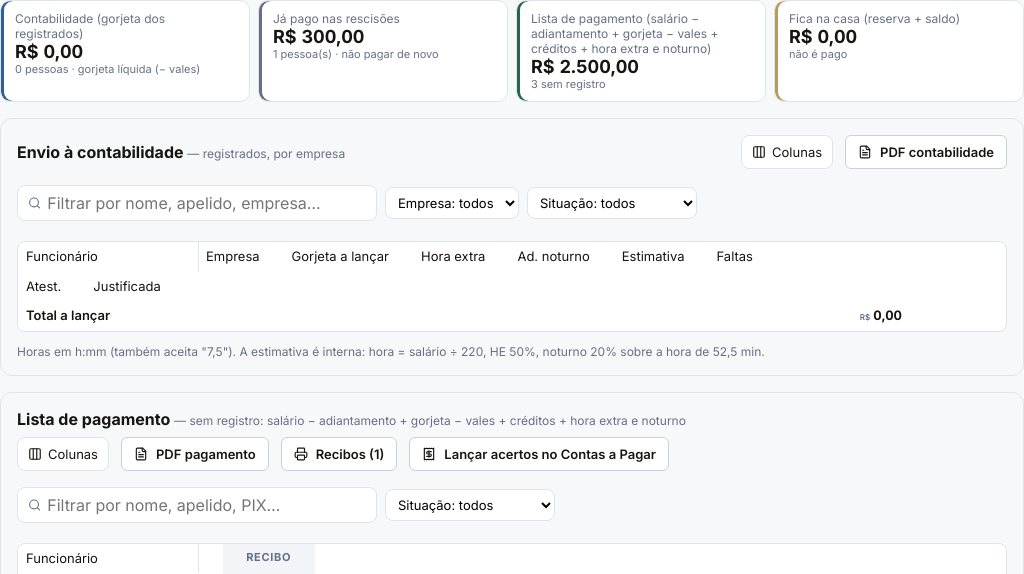
Test case: recibos na lista de pagamento › Recibos: conta só quem tem a receber e gera o PDF de todos
Click the button "Recibos (1)": (339, 454) [281,437,397,471]
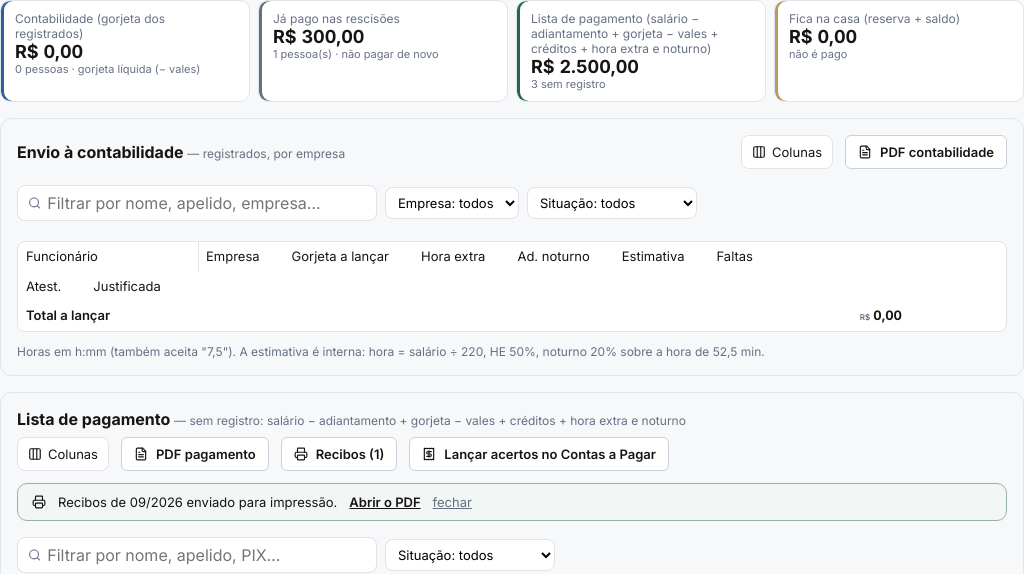
Expected: the text "Recibos de 09/2026 enviado para impressão. Abrir o PDF fechar" is shown, [17,483,1007,521]
